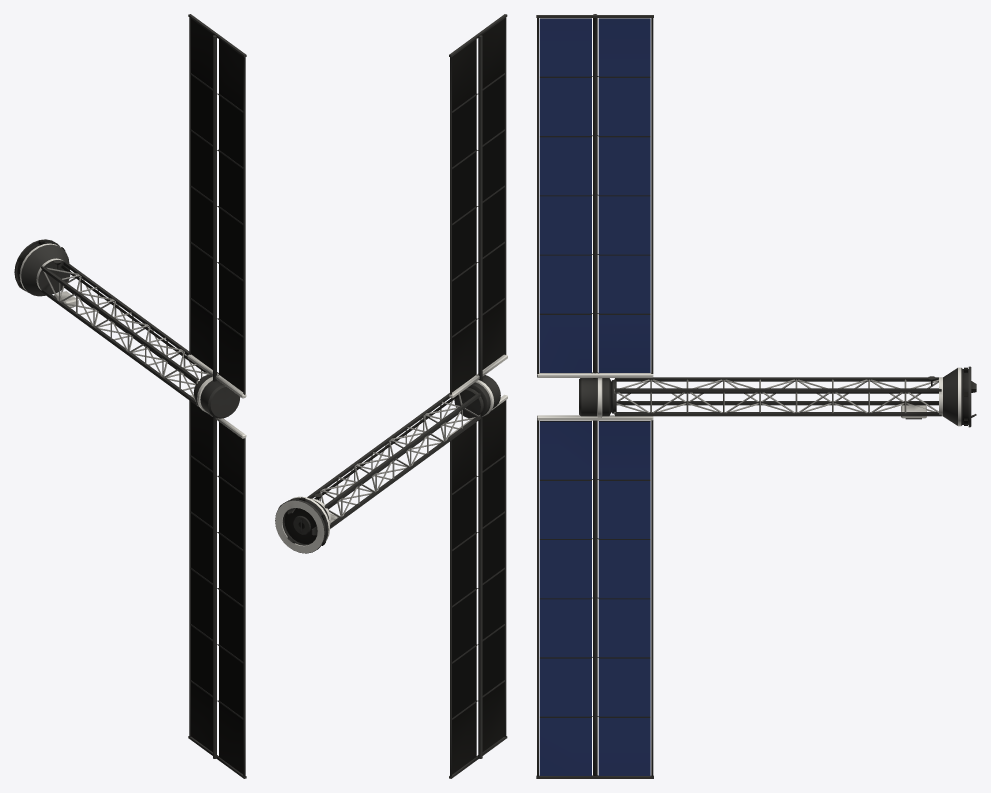
The model's file is solar-array.glb.
The picture shows the model from 3 angles, left to right: view 1: azimuth 30°, elevation 25°; view 2: azimuth 150°, elevation 25°; view 3: azimuth 270°, elevation 25°; orthographic projection. The views are drawn at different scales.
Parts seen in each view (by area): view 1: gimbal_body, body; view 2: gimbal_body, body; view 3: gimbal_body, body.
Part boxes in pixels (x1,y1,x2,y2): gimbal_body: (187,14,246,778); body: (14,239,218,405); gimbal_body: (449,14,507,778); body: (275,387,483,553); gimbal_body: (536,14,653,778); body: (611,366,976,427).
Bounding box in the file's own units: 1.86 × 25.75 × 13.47.
